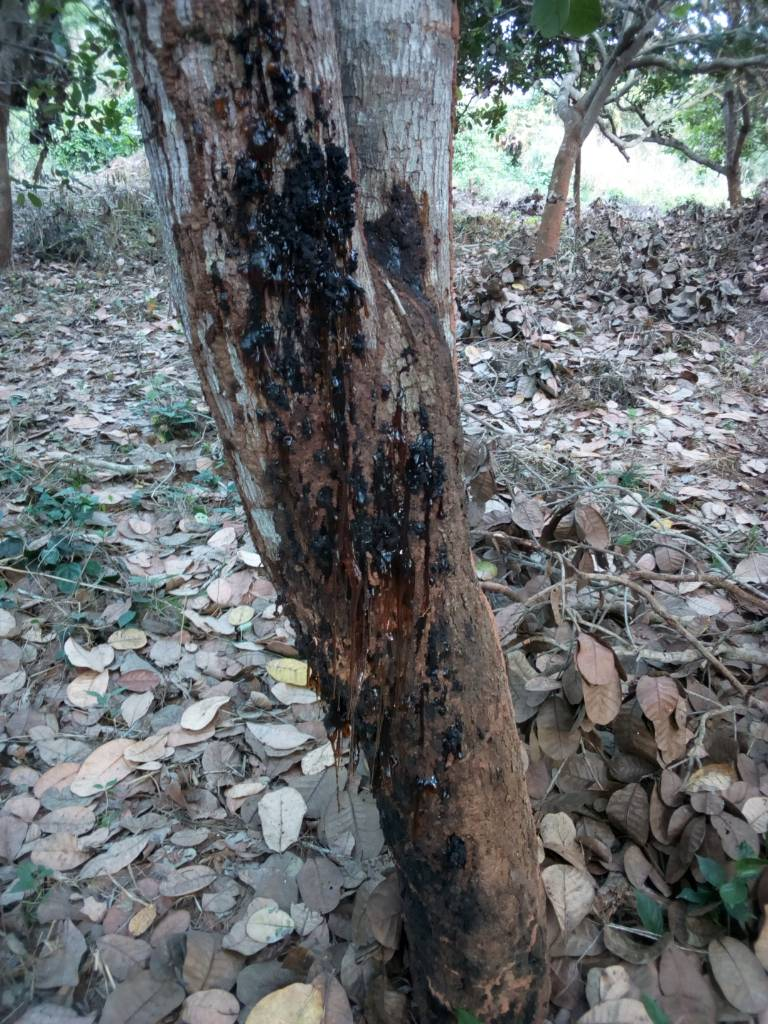Gommose: (200, 7, 465, 824)
